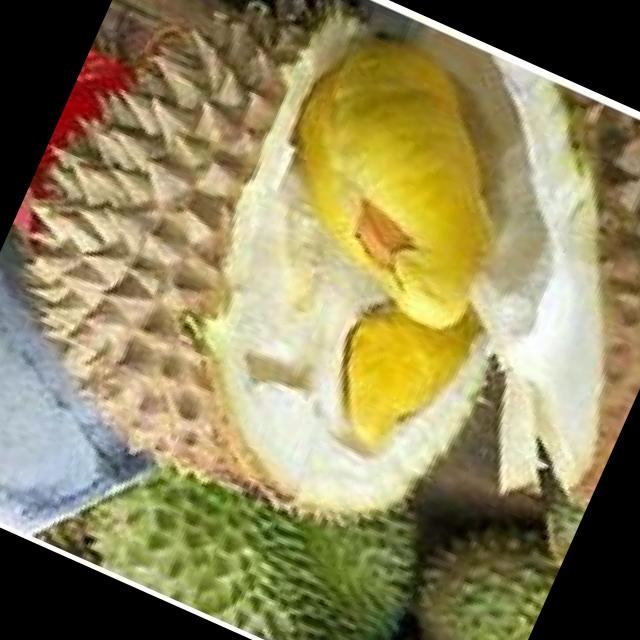fruit: (0, 57, 464, 601), (352, 442, 588, 640)
